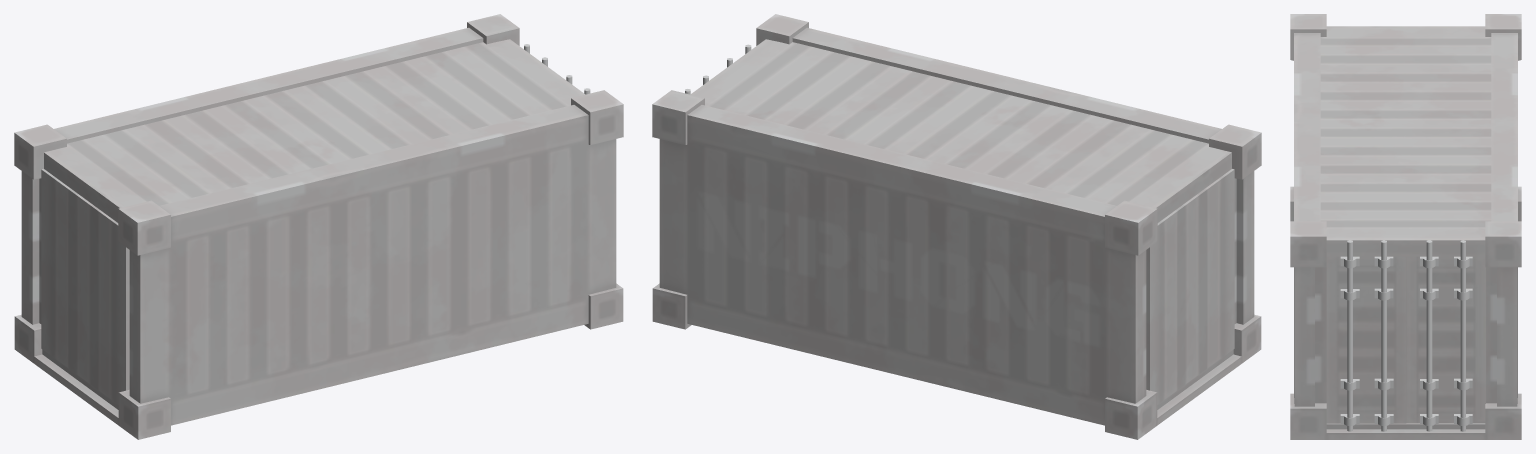
File: Pfb_Container_01_G.fbx
3 renders of one model, left to right at view 1: azimuth 30°, elevation 25°; view 2: azimuth 150°, elevation 25°; view 3: azimuth 270°, elevation 25°, orthographic. The views are drawn at different scales.
Parts seen in each view (by area): view 1: Mat_Container_01_G; view 2: Mat_Container_01_G; view 3: Mat_Container_01_G.
Boxes of the visible parts, x1=… form: Mat_Container_01_G: x1=14, y1=14, x2=623, y2=439; Mat_Container_01_G: x1=652, y1=14, x2=1261, y2=439; Mat_Container_01_G: x1=1290, y1=14, x2=1521, y2=439.
Size of the model in its own units: 6.58 by 2.81 by 2.9.
1 material, 1 textured.
